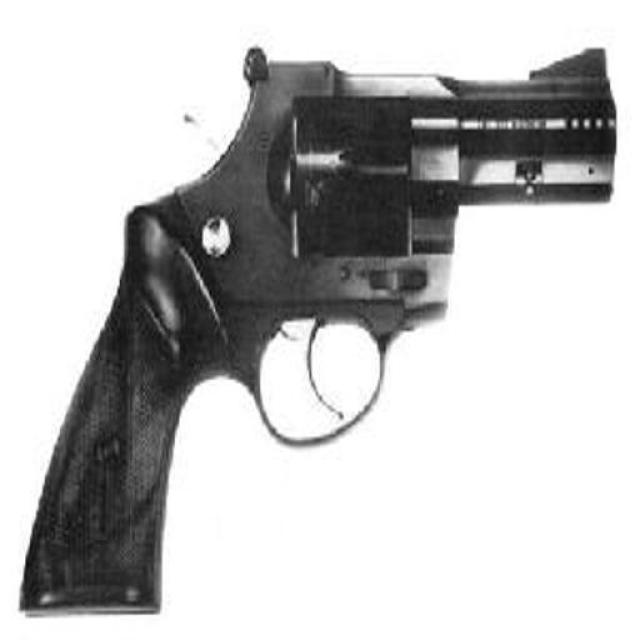pistol: (14, 41, 620, 616)
